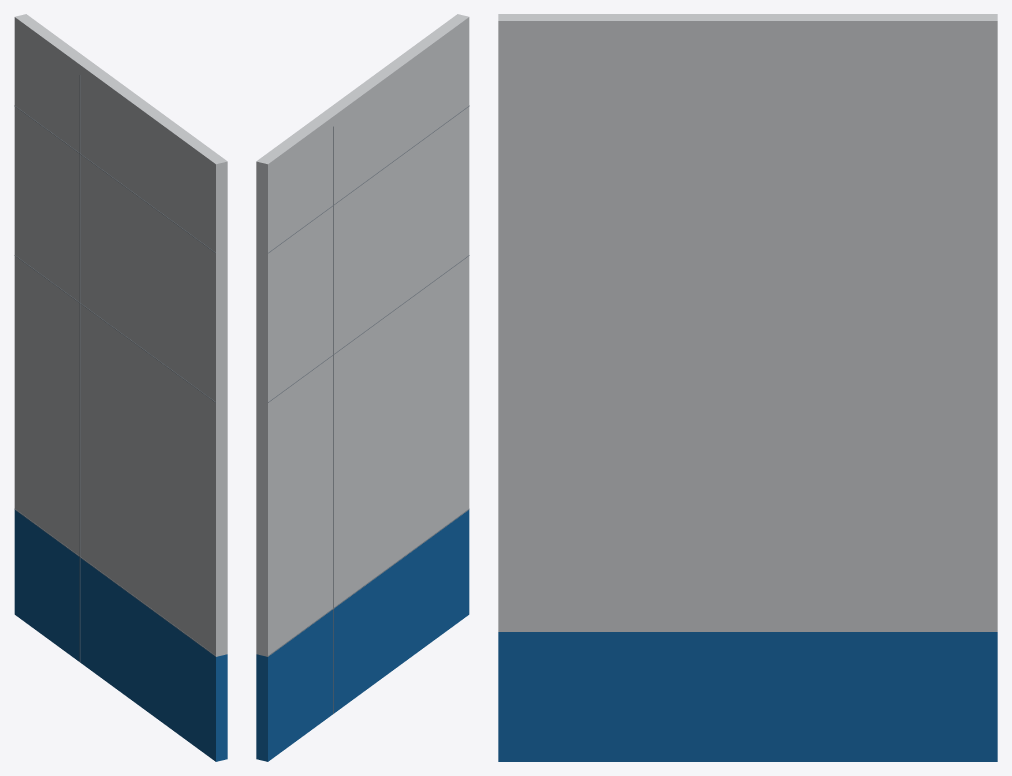
Rendered from SM_MPR4_Facade_03.fbx.
3 renders of one model, left to right at view 1: azimuth 30°, elevation 25°; view 2: azimuth 150°, elevation 25°; view 3: azimuth 270°, elevation 25°, orthographic. The views are drawn at different scales.
Visible parts, largest first — view 1: SM_MPR4_Facade_03; view 2: SM_MPR4_Facade_03; view 3: SM_MPR4_Facade_03.
Part boxes in pixels (x1,y1,x2,y2): SM_MPR4_Facade_03: (14,14,227,761); SM_MPR4_Facade_03: (256,14,469,761); SM_MPR4_Facade_03: (498,14,997,761).
Size of the model in its own units: 31.44 by 904 by 1480.
